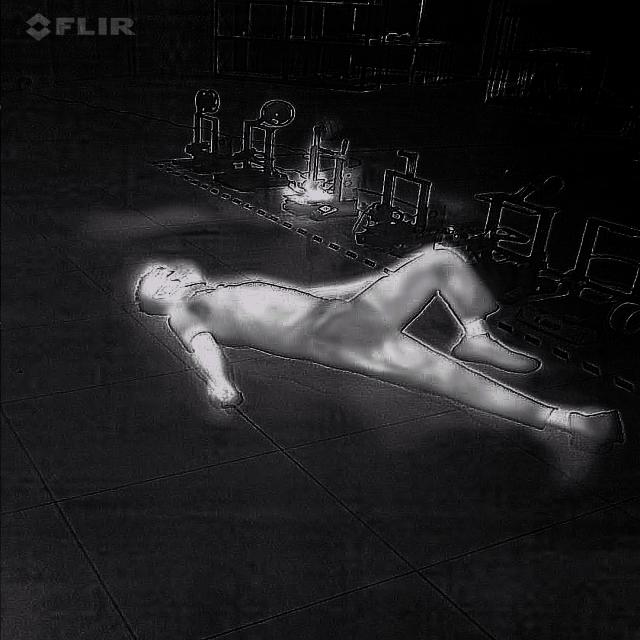Victim: (128, 240, 631, 457)
